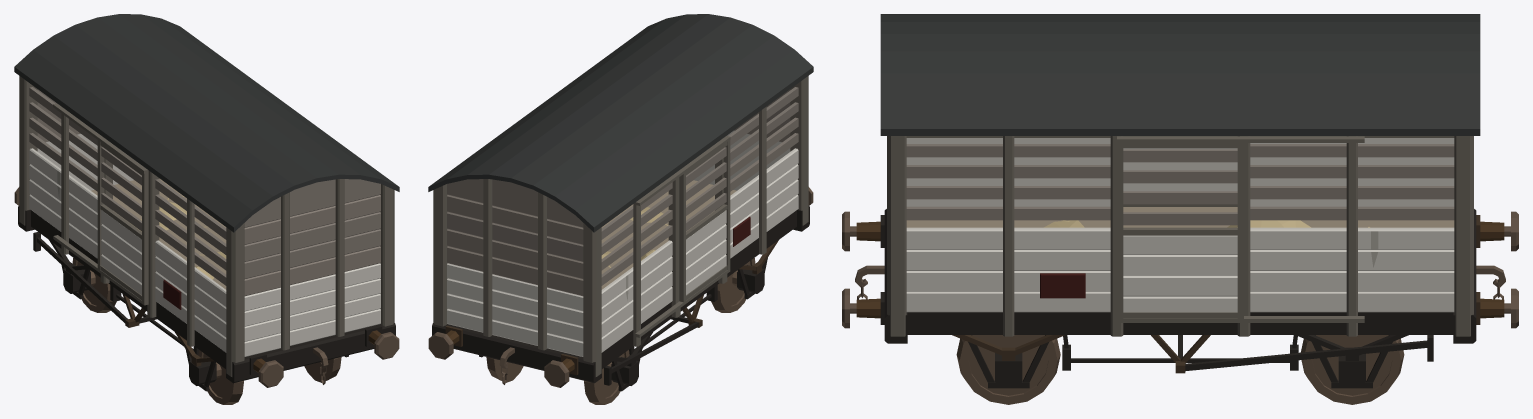
The model's file is cattle-wagon-0d3070.glb.
3 renders of one model, left to right at view 1: azimuth 30°, elevation 25°; view 2: azimuth 150°, elevation 25°; view 3: azimuth 270°, elevation 25°, orthographic. The views are drawn at different scales.
Visible parts, largest first — view 1: body, wheel-1-set, wheel-2-set; view 2: body, wheel-2-set, wheel-1-set; view 3: body, wheel-1-set, wheel-2-set.
Part boxes in pixels (x1,y1,x2,y2): body: (14,14,399,391); wheel-1-set: (198,350,341,404); wheel-2-set: (72,258,116,312); body: (428,14,813,391); wheel-2-set: (486,350,629,404); wheel-1-set: (711,258,755,312); body: (842,14,1518,388); wheel-1-set: (956,335,1060,404); wheel-2-set: (1300,335,1404,404).
Bounding box in the file's own units: 2.62 × 3.58 × 6.5.
